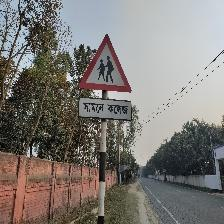College-in-front: (74, 25, 157, 132)
